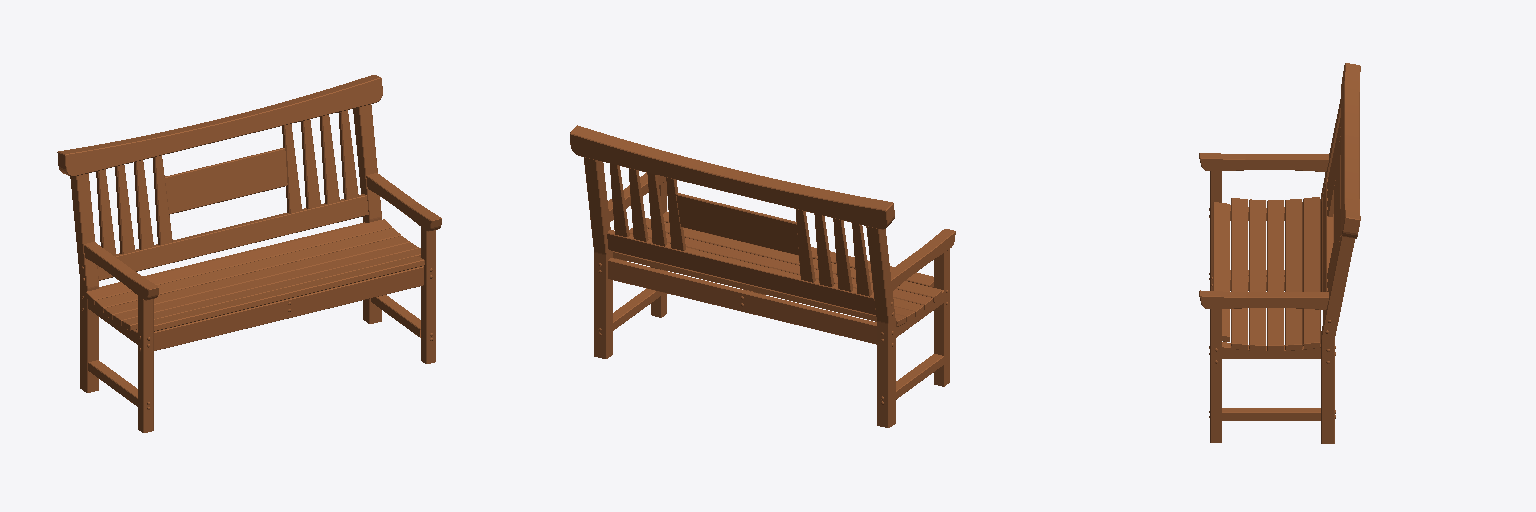
File: bench2.obj
3 renders of one model, left to right at view 1: azimuth 30°, elevation 25°; view 2: azimuth 150°, elevation 25°; view 3: azimuth 270°, elevation 25°, orthographic.
Parts seen in each view (by area): view 1: Bench_0; view 2: Bench_0; view 3: Bench_0.
Boxes of the visible parts, box(x1,y1,x2,y2) form: Bench_0: box(57, 75, 441, 432); Bench_0: box(570, 125, 955, 427); Bench_0: box(1199, 63, 1360, 443).
Size of the model in its own units: 1.3 by 0.9127 by 0.5738.